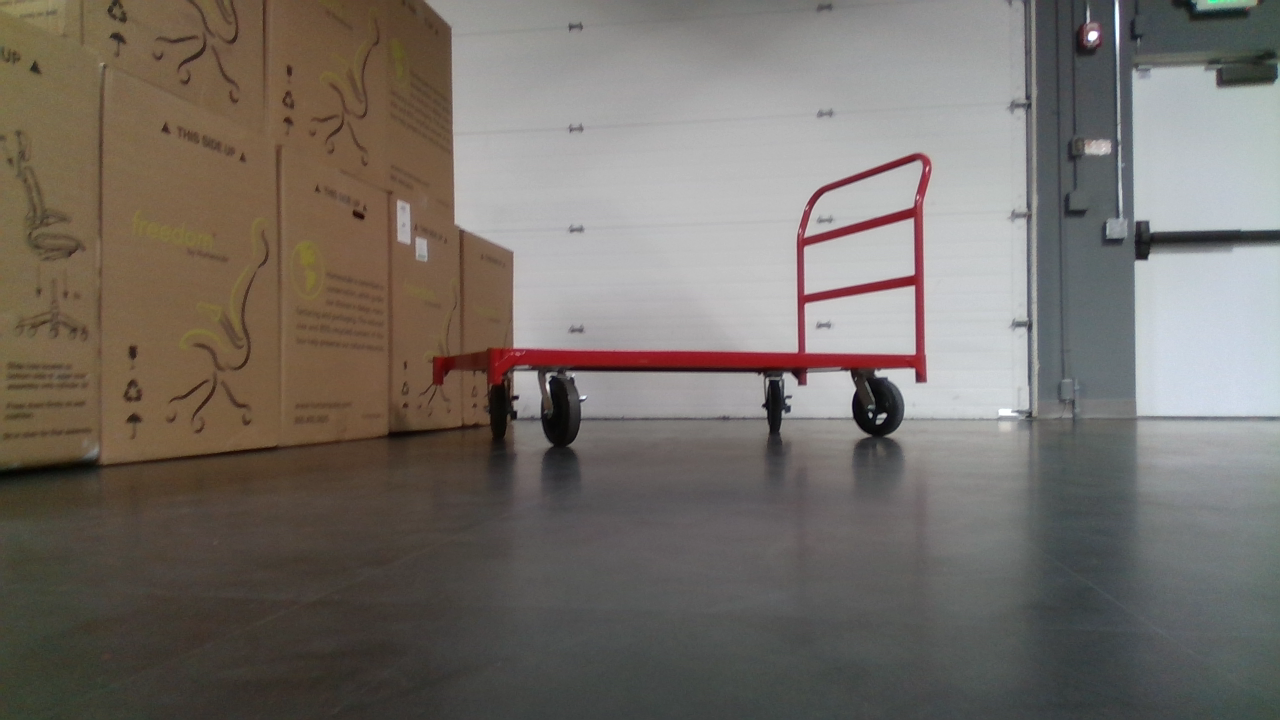Dolly: (420, 144, 941, 441)
Wheel: (533, 369, 590, 448), (848, 375, 905, 436), (482, 377, 521, 443), (756, 377, 797, 434)
